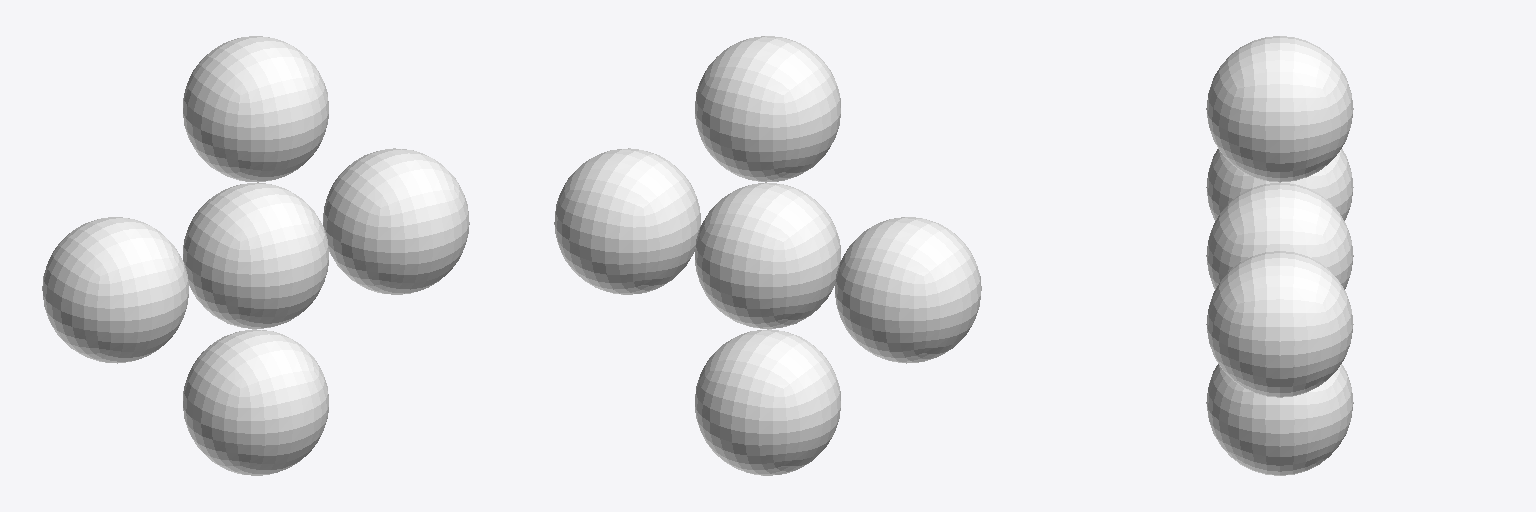
The model's file is Five.obj.
3 renders of one model, left to right at view 1: azimuth 30°, elevation 25°; view 2: azimuth 150°, elevation 25°; view 3: azimuth 270°, elevation 25°, orthographic.
Parts seen in each view (by area): view 1: CountThreePrefab_Scene.014, CountThreePrefab__1__Scene.015, CountThreePrefab__3__Scene.017, CountThreePrefab__2__Scene.016, CountFivePrefab_Scene.013; view 2: CountThreePrefab_Scene.014, CountThreePrefab__1__Scene.015, CountThreePrefab__3__Scene.017, CountThreePrefab__2__Scene.016, CountFivePrefab_Scene.013; view 3: CountThreePrefab__2__Scene.016, CountThreePrefab_Scene.014, CountThreePrefab__1__Scene.015, CountFivePrefab_Scene.013, CountThreePrefab__3__Scene.017.
Boxes of the visible parts, x1,y1,x2,y2 form: CountThreePrefab_Scene.014: [183, 36, 328, 182]; CountThreePrefab__1__Scene.015: [183, 329, 328, 475]; CountThreePrefab__3__Scene.017: [42, 217, 188, 363]; CountThreePrefab__2__Scene.016: [323, 148, 469, 294]; CountFivePrefab_Scene.013: [183, 183, 328, 328]; CountThreePrefab_Scene.014: [695, 36, 840, 182]; CountThreePrefab__1__Scene.015: [695, 329, 840, 475]; CountThreePrefab__3__Scene.017: [835, 217, 981, 363]; CountThreePrefab__2__Scene.016: [554, 148, 700, 294]; CountFivePrefab_Scene.013: [695, 183, 840, 328]; CountThreePrefab__2__Scene.016: [1206, 251, 1353, 397]; CountThreePrefab_Scene.014: [1206, 36, 1353, 182]; CountThreePrefab__1__Scene.015: [1206, 364, 1353, 475]; CountFivePrefab_Scene.013: [1206, 183, 1353, 289]; CountThreePrefab__3__Scene.017: [1206, 149, 1353, 220].
Bounding box in the file's own units: 0.096 × 0.096 × 0.03.